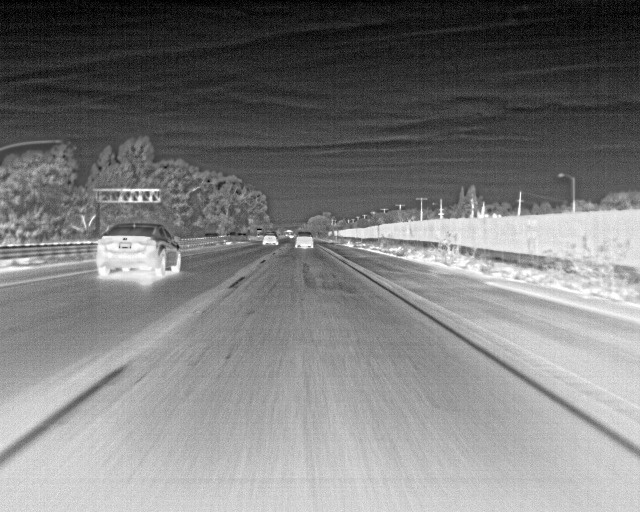vehicle: (95, 222, 184, 283), (292, 231, 316, 250), (263, 232, 279, 247)
